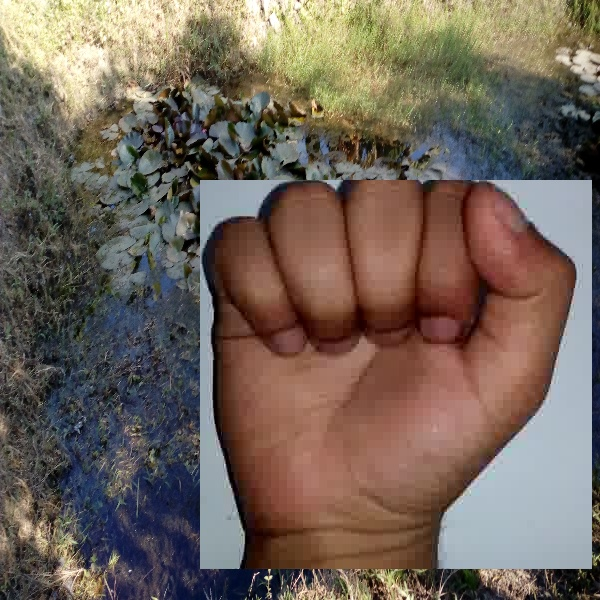A: (200, 180, 592, 569)
